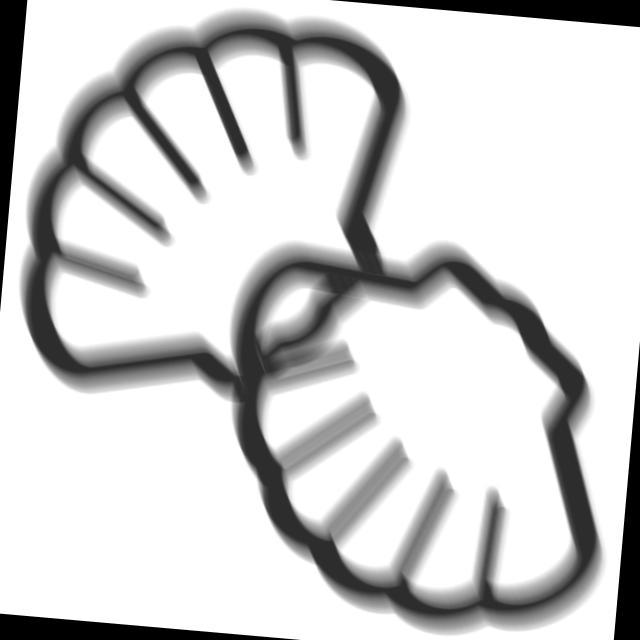shell: (192, 209, 637, 640), (1, 1, 425, 435)
